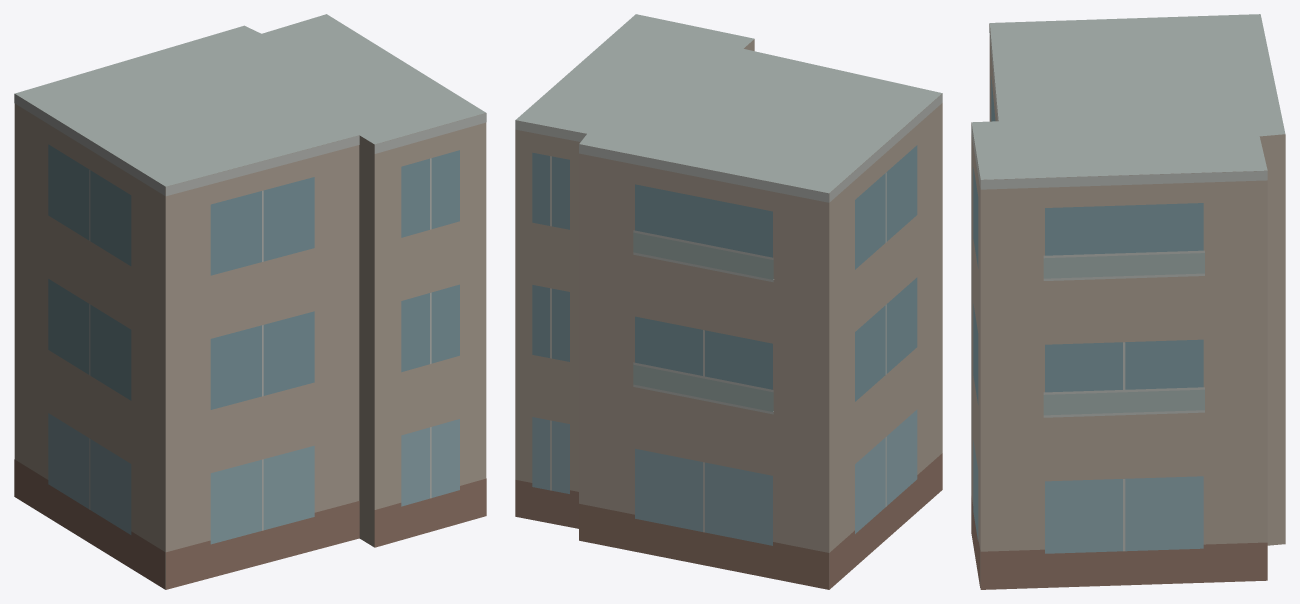
The model's file is survey-upis-33035297.glb.
3 renders of one model, left to right at view 1: azimuth 30°, elevation 25°; view 2: azimuth 150°, elevation 25°; view 3: azimuth 270°, elevation 25°, orthographic. The views are drawn at different scales.
Visible parts, largest first — view 1: survey-upis-33035297.tmp; view 2: survey-upis-33035297.tmp; view 3: survey-upis-33035297.tmp.
Boxes of the visible parts, box(x1,y1,x2,y2) form: survey-upis-33035297.tmp: box(14, 14, 486, 589); survey-upis-33035297.tmp: box(515, 14, 942, 589); survey-upis-33035297.tmp: box(971, 14, 1285, 589).
Bounding box in the file's own units: 8.86 × 10.2 × 7.09.
